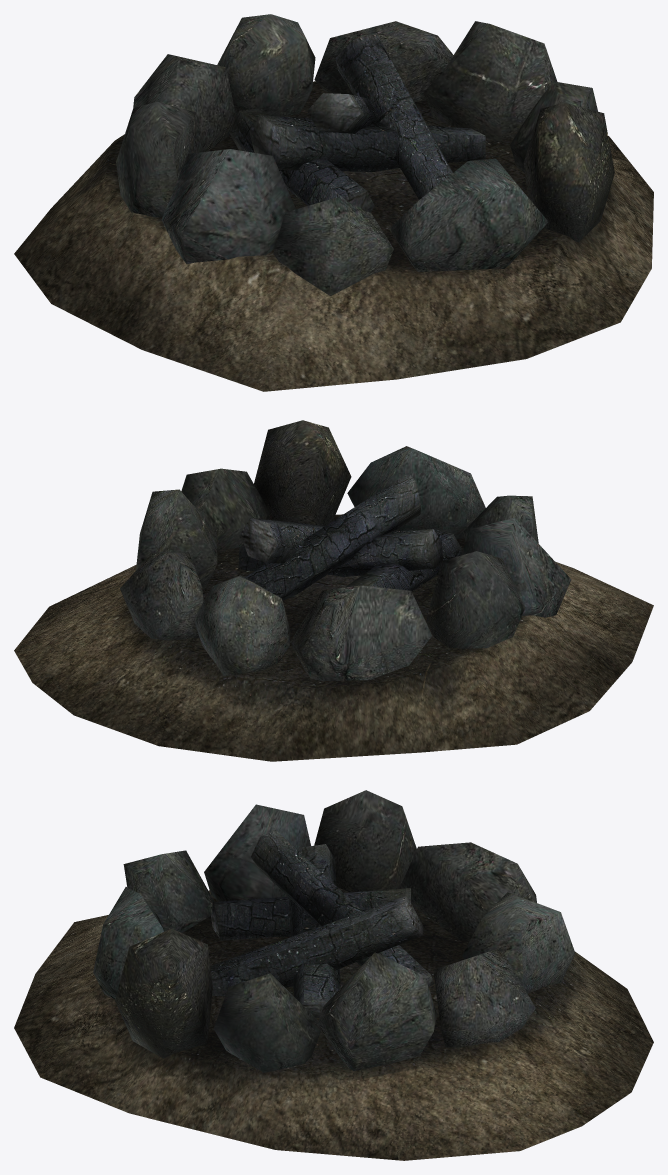
The model's file is firepit.fbx.
The picture shows the model from 3 angles, top to bottom: view 1: azimuth 30°, elevation 25°; view 2: azimuth 150°, elevation 25°; view 3: azimuth 270°, elevation 25°; orthographic projection. The views are drawn at different scales.
Visible parts, largest first — view 1: Mesh; view 2: Mesh; view 3: Mesh.
Boxes of the visible parts, x1,y1,x2,y2 form: Mesh: (14, 14, 653, 391); Mesh: (14, 420, 653, 761); Mesh: (14, 790, 653, 1160).
Bounding box in the file's own units: 204 × 59.71 × 204.
